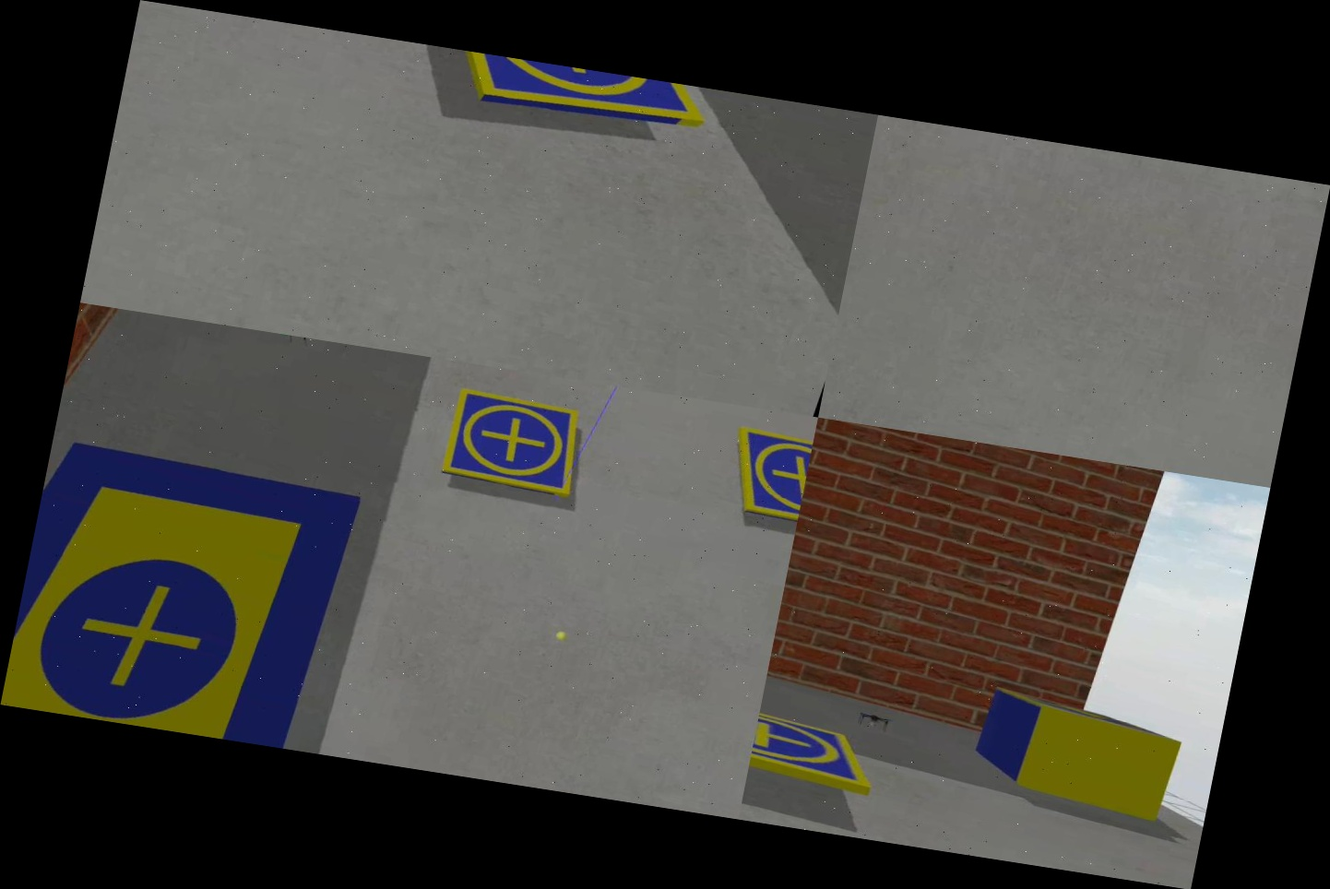large_base: (0, 405, 388, 755)
small_base: (400, 42, 723, 163), (426, 379, 601, 513), (746, 702, 890, 800), (711, 420, 814, 538)
